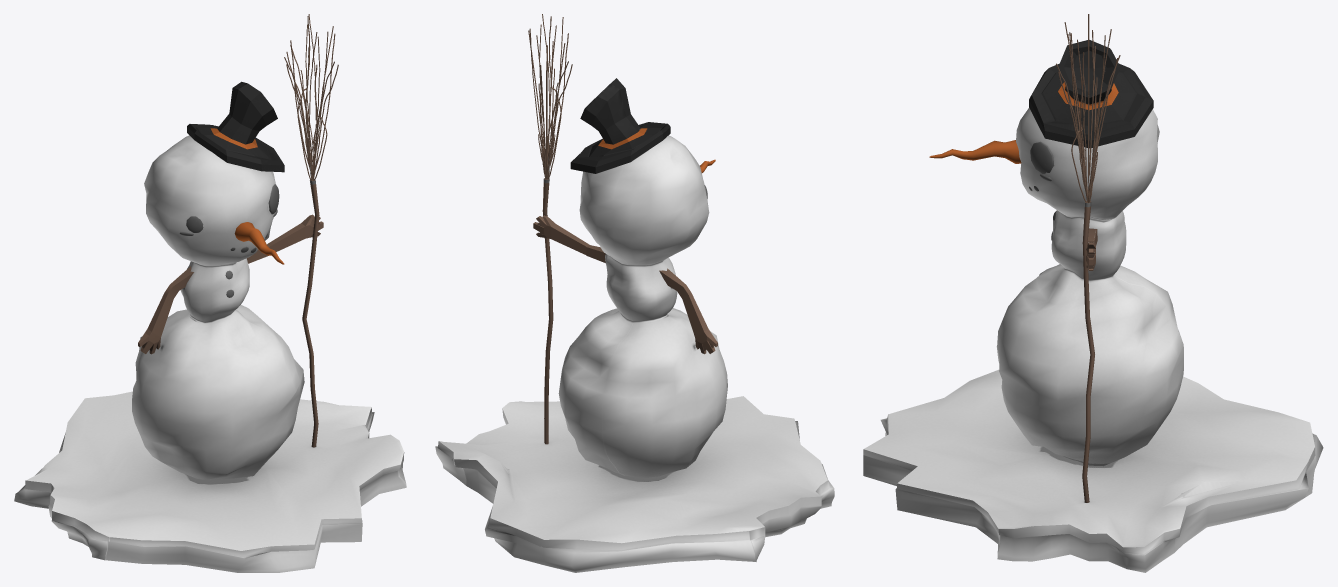
File: snow.glb
3 views of the same model, side by side, from view 1: azimuth 30°, elevation 25°; view 2: azimuth 150°, elevation 25°; view 3: azimuth 270°, elevation 25° (orthographic). The views are drawn at different scales.
Visible parts, largest first — view 1: Platform, BaseBody, Hat, BroomHal, BroomBase, Arm_Left, Arm_Right, Carrot; view 2: Platform, BaseBody, Hat, BroomHal, Arm_Left, BroomBase, Arm_Right; view 3: Platform, BaseBody, Hat, BroomHal, BroomBase, Carrot, Eye_Rightt.
Boxes of the visible parts, bbox=[...] form: Platform: bbox=[14, 391, 406, 572]; BaseBody: bbox=[132, 135, 304, 479]; Hat: bbox=[187, 81, 284, 172]; BroomHal: bbox=[284, 14, 338, 180]; BroomBase: bbox=[302, 179, 319, 447]; Arm_Left: bbox=[138, 266, 193, 354]; Arm_Right: bbox=[247, 214, 323, 263]; Carrot: bbox=[234, 222, 284, 264]; Platform: bbox=[435, 396, 834, 572]; BaseBody: bbox=[558, 135, 727, 477]; Hat: bbox=[570, 78, 670, 173]; BroomHal: bbox=[528, 14, 572, 179]; Arm_Left: bbox=[659, 268, 717, 354]; BroomBase: bbox=[542, 178, 553, 444]; Arm_Right: bbox=[533, 215, 605, 263]; Platform: bbox=[863, 369, 1323, 572]; BaseBody: bbox=[996, 107, 1183, 466]; Hat: bbox=[1029, 40, 1153, 148]; BroomHal: bbox=[1056, 14, 1120, 202]; BroomBase: bbox=[1082, 201, 1094, 502]; Carrot: bbox=[929, 140, 1021, 163]; Eye_Rightt: bbox=[1030, 141, 1054, 174].
Size of the model in its own units: 8.07 by 9.88 by 8.03.
4 materials, 4 textured.
